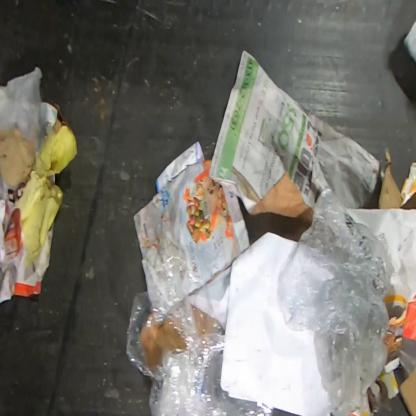cardboard: (245, 171, 312, 246), (376, 147, 404, 211), (400, 370, 416, 416)
soft_plastic: (277, 187, 389, 415), (126, 257, 275, 416)
